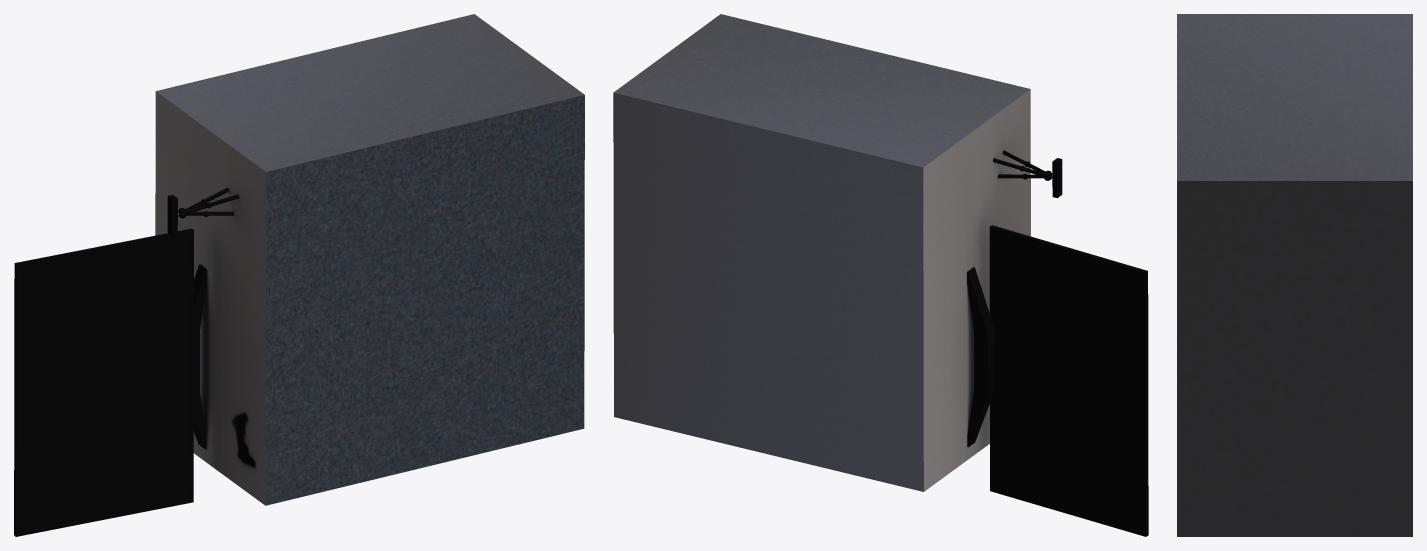
File: OBJ_REP_PSVR_Mesa.obj
3 renders of one model, left to right at view 1: azimuth 30°, elevation 25°; view 2: azimuth 150°, elevation 25°; view 3: azimuth 270°, elevation 25°, orthographic. The views are drawn at different scales.
Parts seen in each view (by area): view 1: Box4979; view 2: Box4979; view 3: Box4979.
Part boxes in pixels (box(x1,y1,x2,y2)): Box4979: box(14, 14, 584, 536); Box4979: box(613, 14, 1148, 536); Box4979: box(1177, 14, 1412, 536).
Size of the model in its own units: 62.3 by 43.32 by 23.62.
2 materials, 1 textured.
